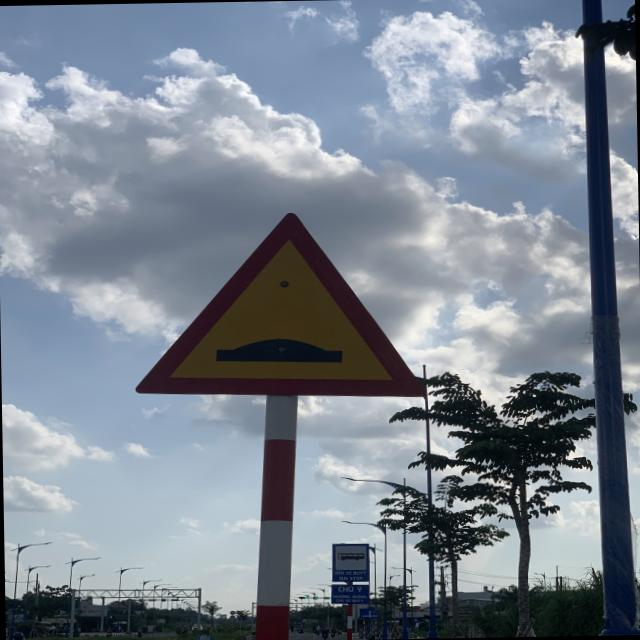Duong_Cong_Ben_Phai: (130, 210, 426, 402)
